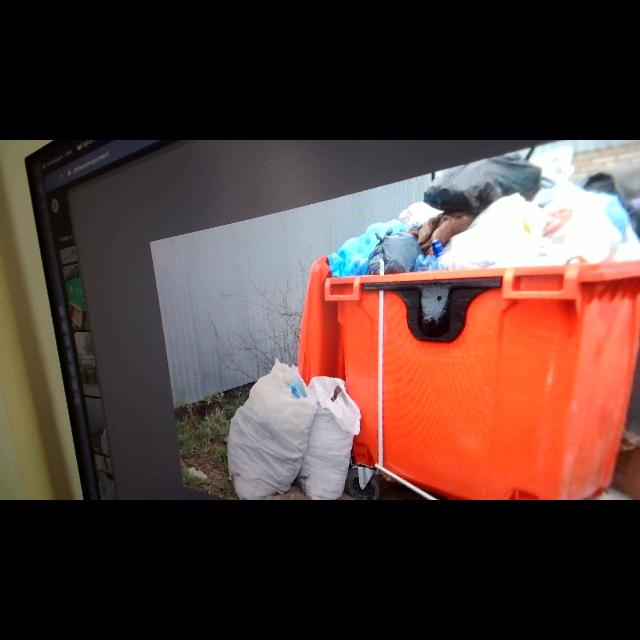Trash_Can_Full: (324, 152, 640, 500)
